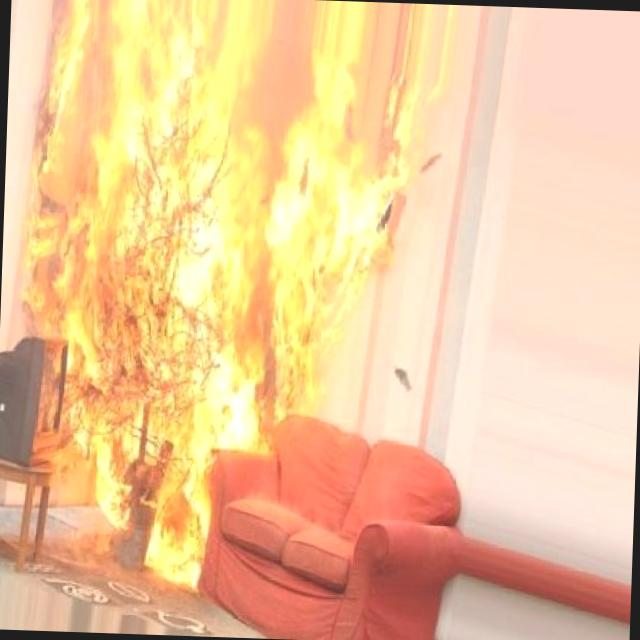fire: (6, 0, 429, 597)
